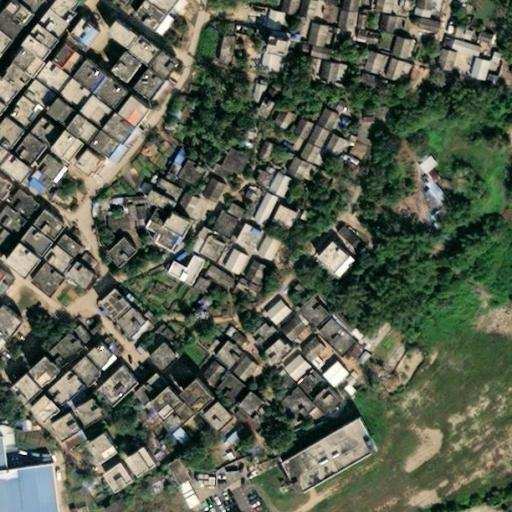building: (274, 414, 368, 489), (0, 460, 57, 512), (92, 368, 133, 409), (99, 111, 138, 149), (3, 245, 42, 283), (43, 369, 82, 407), (23, 24, 61, 62), (70, 59, 108, 97), (131, 68, 167, 105), (25, 265, 62, 301), (310, 321, 347, 357), (130, 0, 166, 35), (11, 133, 46, 168), (139, 219, 175, 253), (77, 95, 112, 129), (304, 386, 338, 421), (162, 256, 199, 288), (68, 20, 102, 54), (93, 77, 127, 111), (31, 148, 64, 183), (5, 95, 38, 129), (52, 133, 85, 167), (48, 99, 82, 132), (56, 79, 90, 112), (109, 51, 142, 85), (38, 242, 72, 275), (109, 306, 143, 339), (331, 218, 365, 251), (34, 62, 67, 94), (121, 98, 153, 131), (305, 236, 337, 269), (133, 375, 166, 407), (105, 238, 137, 270), (271, 351, 303, 383), (94, 290, 126, 322), (30, 358, 62, 390), (152, 390, 185, 421), (0, 116, 27, 153), (15, 48, 47, 79), (22, 79, 54, 110), (88, 131, 120, 162), (18, 227, 50, 258), (210, 376, 242, 407), (184, 385, 215, 417), (10, 377, 41, 409), (399, 57, 428, 91), (292, 298, 323, 329), (31, 396, 62, 427), (127, 37, 159, 67), (125, 449, 155, 481), (1, 154, 32, 184), (30, 212, 61, 242), (102, 464, 133, 494), (280, 157, 312, 186), (70, 116, 100, 146), (289, 372, 319, 402), (1, 190, 32, 219), (63, 264, 94, 293), (68, 357, 97, 387), (52, 415, 81, 445), (140, 189, 173, 215), (256, 301, 285, 330), (75, 401, 104, 430), (88, 437, 117, 466), (108, 23, 138, 51), (148, 53, 178, 81), (0, 309, 24, 344), (246, 192, 270, 226), (38, 10, 67, 38), (26, 118, 55, 146), (200, 405, 229, 433), (205, 296, 234, 324), (76, 151, 104, 179), (204, 212, 232, 239), (82, 343, 109, 371), (36, 330, 65, 356), (52, 46, 79, 73), (228, 225, 255, 252), (216, 248, 243, 275), (216, 149, 242, 177), (168, 480, 193, 509), (149, 178, 179, 202), (262, 171, 288, 198), (267, 207, 294, 233), (207, 342, 234, 368), (169, 190, 194, 218), (174, 161, 200, 187), (234, 395, 260, 421), (224, 357, 249, 384), (0, 207, 21, 238), (289, 337, 315, 362), (194, 172, 215, 202), (234, 259, 259, 284), (314, 363, 339, 388), (245, 323, 270, 348), (126, 331, 151, 356), (23, 169, 49, 193), (193, 239, 219, 263), (164, 215, 191, 238), (272, 316, 296, 341), (248, 235, 271, 261), (183, 226, 204, 254), (212, 36, 230, 68), (261, 341, 285, 365), (150, 351, 174, 375), (196, 265, 221, 288), (374, 55, 396, 81), (192, 361, 215, 385), (248, 139, 270, 164), (160, 460, 182, 485), (311, 62, 337, 83), (275, 133, 298, 156), (159, 360, 182, 383), (142, 343, 165, 366), (269, 39, 293, 61), (369, 14, 394, 35), (359, 50, 380, 75), (442, 39, 472, 56), (293, 143, 316, 165), (145, 323, 168, 345), (251, 96, 272, 120), (191, 464, 215, 485), (54, 237, 77, 258), (251, 165, 271, 189), (349, 332, 374, 351), (300, 24, 322, 45), (268, 106, 290, 127), (301, 125, 322, 147), (327, 5, 347, 27), (310, 109, 330, 131), (228, 279, 252, 297), (439, 15, 466, 31), (409, 16, 434, 33), (291, 0, 312, 20), (385, 37, 405, 58), (319, 134, 339, 155), (90, 232, 111, 252), (216, 327, 237, 347), (64, 324, 84, 345), (286, 118, 305, 140), (462, 58, 479, 82), (437, 25, 464, 40), (172, 405, 192, 425), (257, 12, 278, 31), (269, 151, 288, 172), (218, 203, 238, 222), (410, 156, 430, 175), (254, 54, 275, 72), (371, 32, 388, 54), (434, 48, 450, 71), (158, 417, 177, 436), (95, 497, 119, 512), (185, 277, 204, 295), (273, 0, 293, 17), (417, 181, 435, 199), (367, 0, 391, 13), (338, 342, 355, 360), (230, 415, 249, 431), (15, 0, 40, 12), (243, 81, 257, 102), (303, 46, 324, 60), (157, 161, 173, 179), (112, 202, 128, 219), (206, 165, 225, 179), (299, 355, 315, 371), (240, 367, 256, 383), (145, 207, 160, 224), (333, 381, 348, 397), (346, 46, 360, 63), (164, 150, 178, 166), (83, 202, 98, 216), (349, 31, 365, 44), (402, 30, 422, 40), (190, 296, 205, 309), (391, 64, 402, 81), (469, 30, 483, 43), (474, 73, 488, 86), (330, 0, 350, 9), (236, 190, 251, 202), (101, 196, 123, 204), (348, 350, 361, 363), (134, 416, 147, 429), (165, 251, 180, 262), (394, 0, 406, 13), (363, 32, 373, 44), (348, 14, 356, 28), (336, 374, 346, 385), (353, 112, 365, 121), (294, 44, 305, 53), (123, 441, 134, 450), (149, 450, 158, 459), (98, 211, 104, 216)
